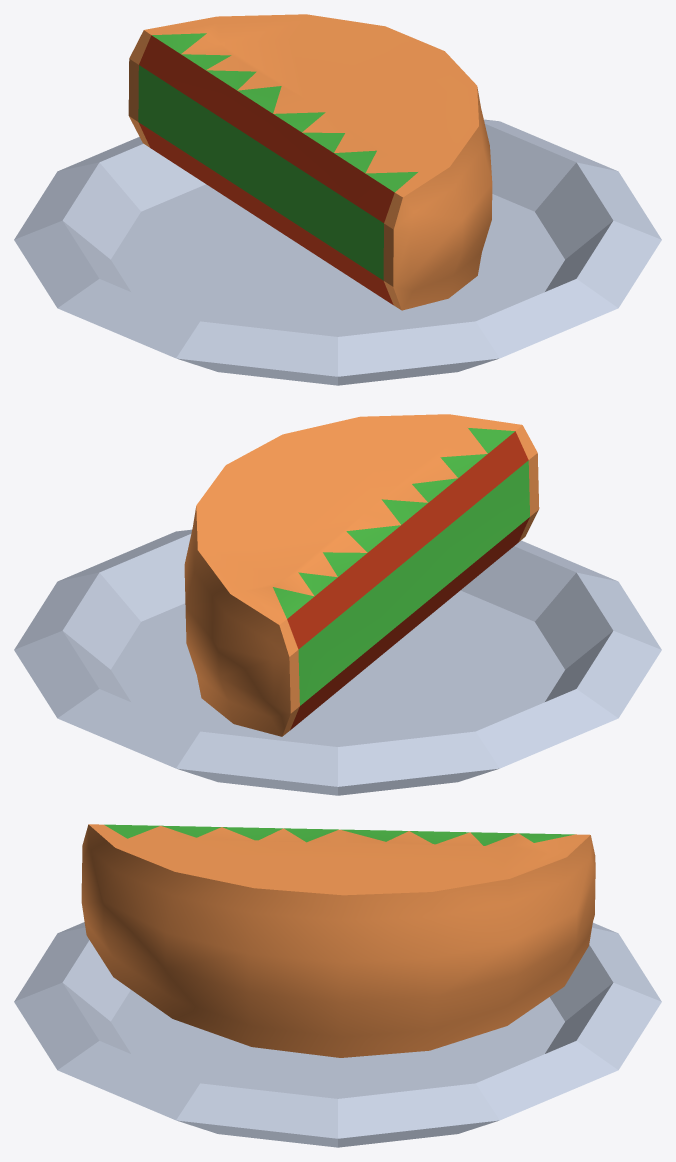
The model's file is tacoplate.fbx.
3 views of the same model, one above another, from view 1: azimuth 30°, elevation 25°; view 2: azimuth 150°, elevation 25°; view 3: azimuth 270°, elevation 25° (orthographic).
Parts seen in each view (by area): view 1: HotDog_Stand_HotDog_Stand_0.002; view 2: HotDog_Stand_HotDog_Stand_0.002; view 3: HotDog_Stand_HotDog_Stand_0.002.
Boxes of the visible parts, <box> form: HotDog_Stand_HotDog_Stand_0.002: <box>14,14,661,385</box>; HotDog_Stand_HotDog_Stand_0.002: <box>14,414,661,795</box>; HotDog_Stand_HotDog_Stand_0.002: <box>14,824,661,1147</box>.
Bounding box in the file's own units: 53.09 × 18.56 × 53.09.
